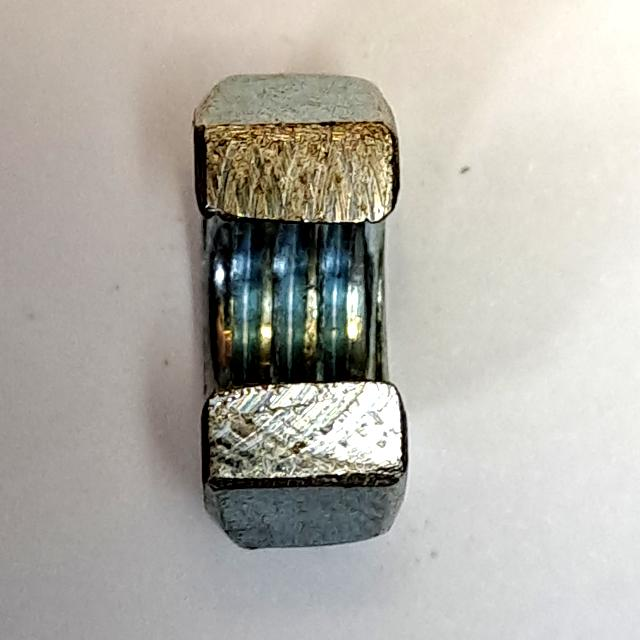Side-Fracture: (164, 57, 430, 572)
